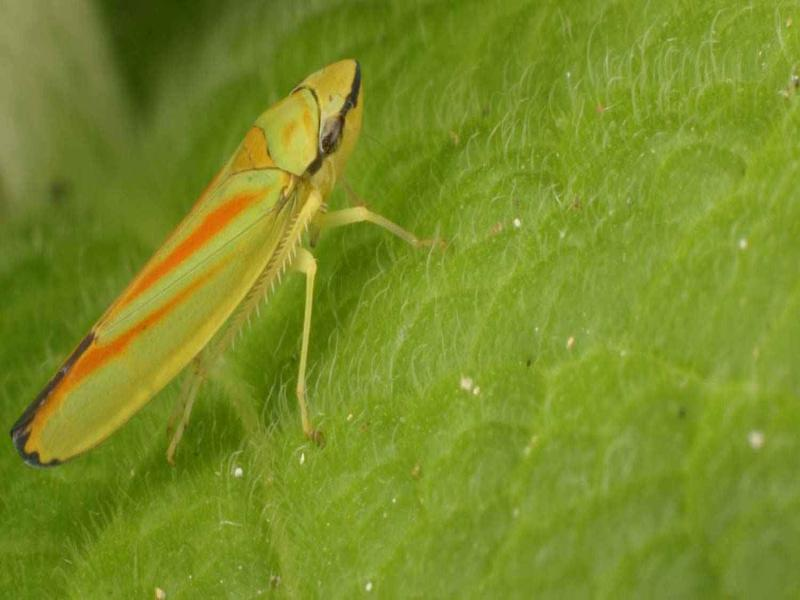Brown_plant_leafhopper: (13, 52, 377, 480)
